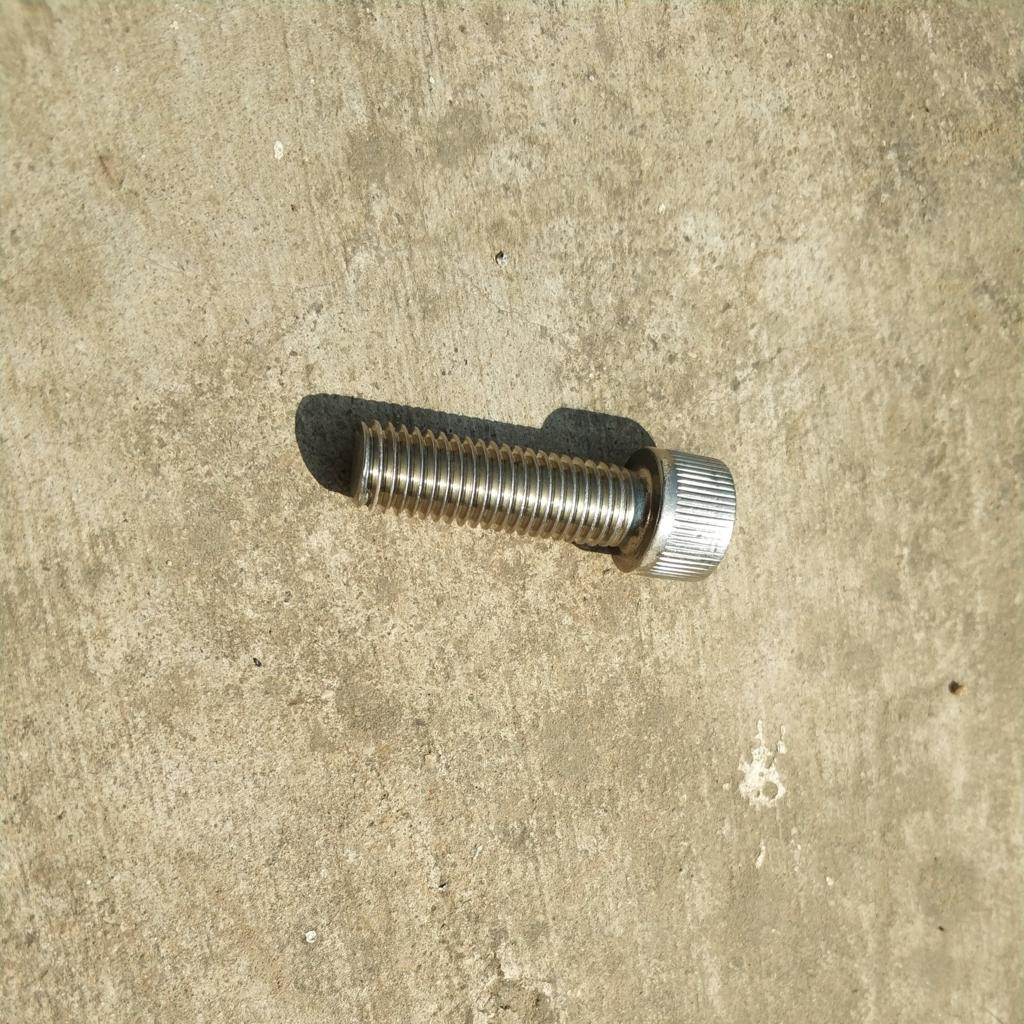screwtype1silver: (339, 412, 741, 588)
